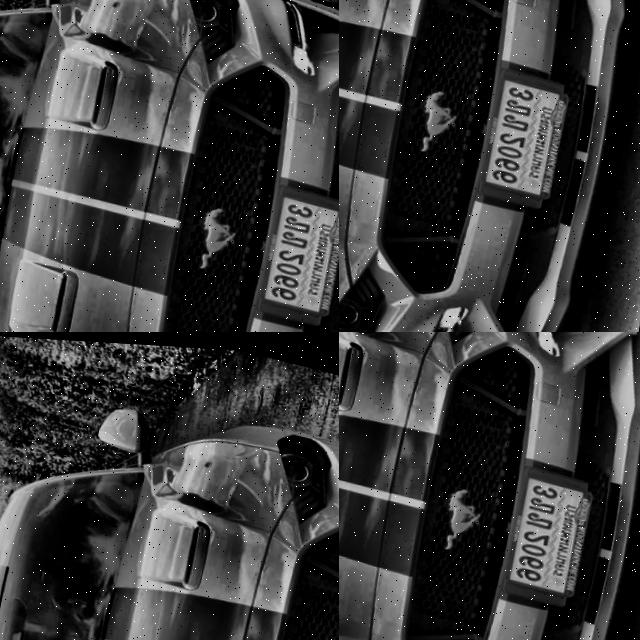license-plate: (160, 17, 282, 154), (501, 465, 597, 596), (0, 332, 28, 420)
